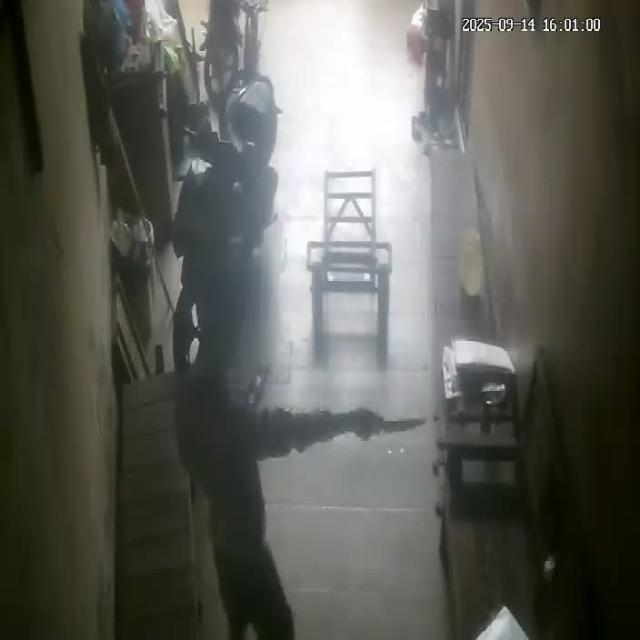senjata_tajam: (378, 414, 430, 438)
